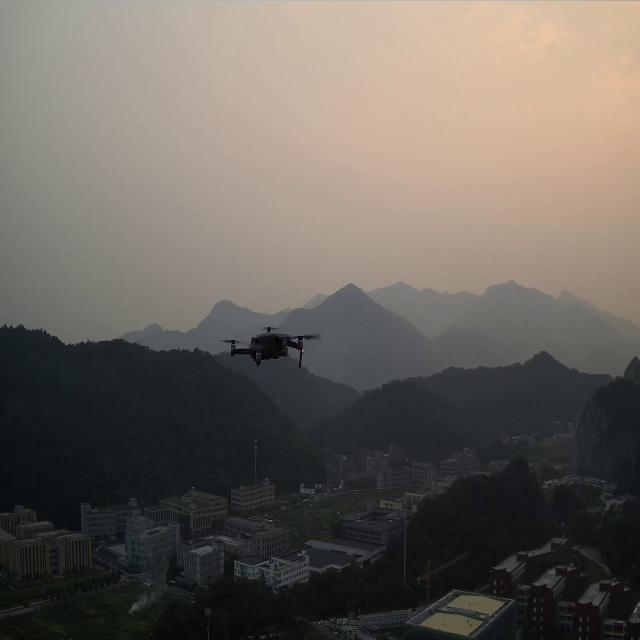UAV: (217, 326, 322, 370)
